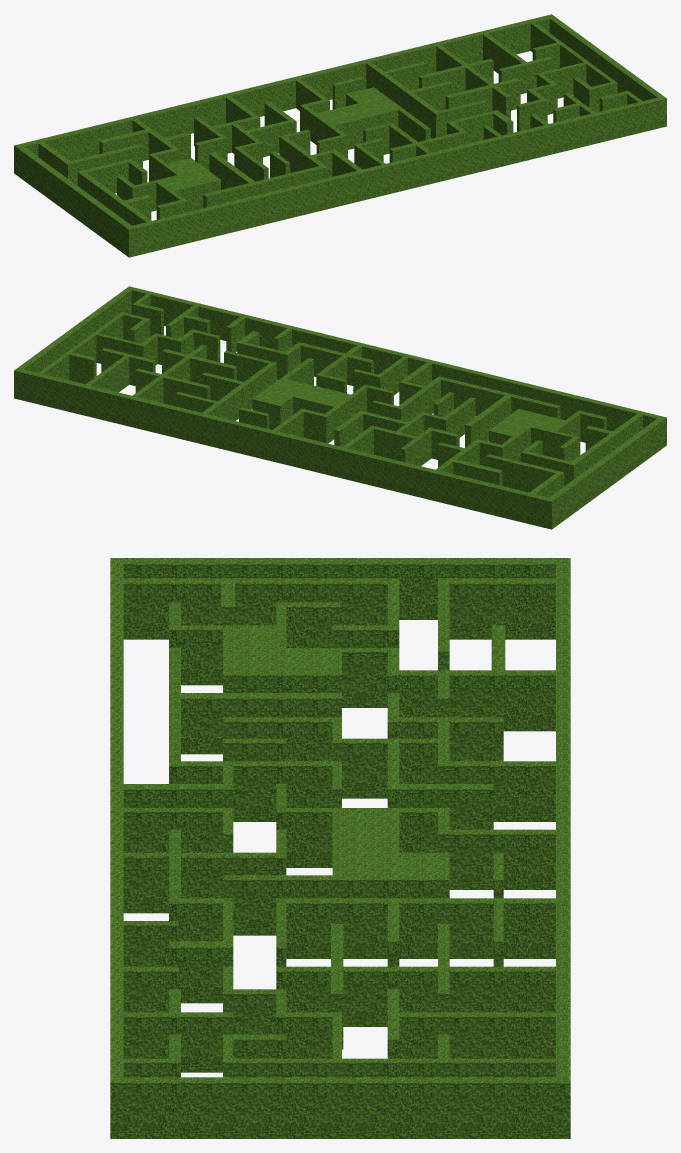
The model's file is laberinto.fbx.
The picture shows the model from 3 angles, top to bottom: view 1: azimuth 30°, elevation 25°; view 2: azimuth 150°, elevation 25°; view 3: azimuth 270°, elevation 25°; orthographic projection. The views are drawn at different scales.
Parts seen in each view (by area): view 1: Line051; view 2: Line051; view 3: Line051.
Boxes of the visible parts, left/top/right/bottom form: Line051: left=14, top=14, right=666, bottom=257; Line051: left=14, top=286, right=666, bottom=529; Line051: left=110, top=558, right=570, bottom=1138.
Bounding box in the file's own units: 2052 × 102 × 761.
